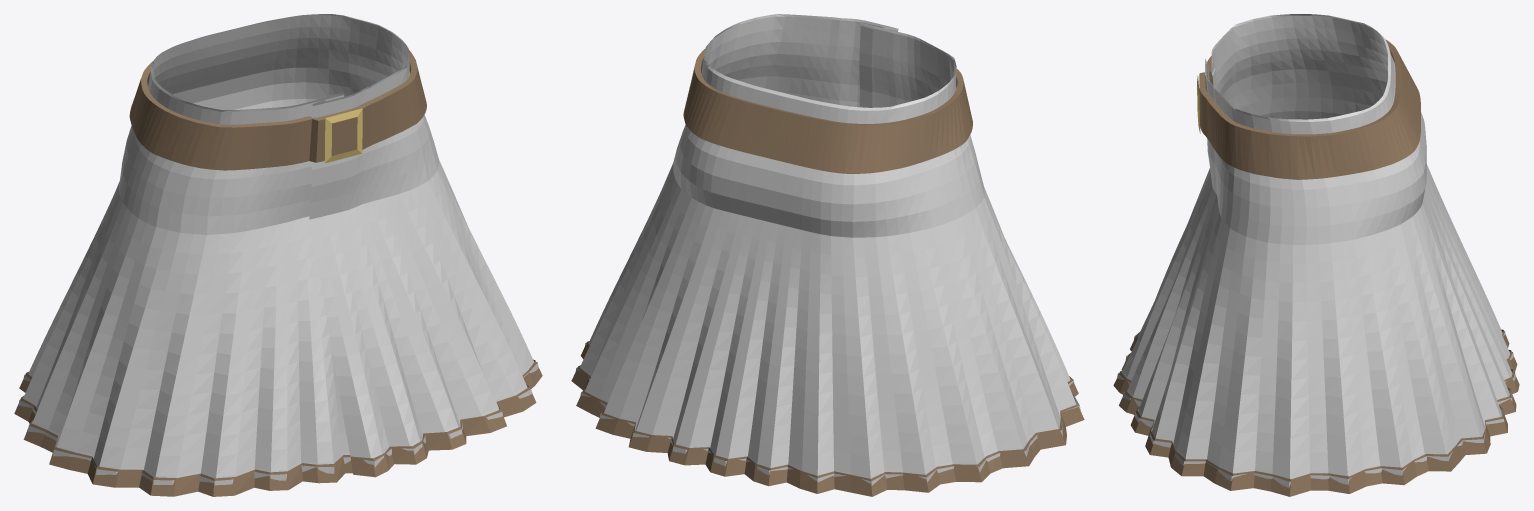
The model's file is ewb_valkyrie.glb.
3 views of the same model, side by side, from view 1: azimuth 30°, elevation 25°; view 2: azimuth 150°, elevation 25°; view 3: azimuth 270°, elevation 25° (orthographic). The views are drawn at different scales.
Parts seen in each view (by area): view 1: ewb_valkyrie; view 2: ewb_valkyrie; view 3: ewb_valkyrie.
Boxes of the visible parts, bbox=[...] form: ewb_valkyrie: bbox=[14, 14, 542, 496]; ewb_valkyrie: bbox=[571, 14, 1084, 496]; ewb_valkyrie: bbox=[1113, 14, 1519, 496].
Bounding box in the file's own units: 0.6928 × 0.4787 × 0.5457.
